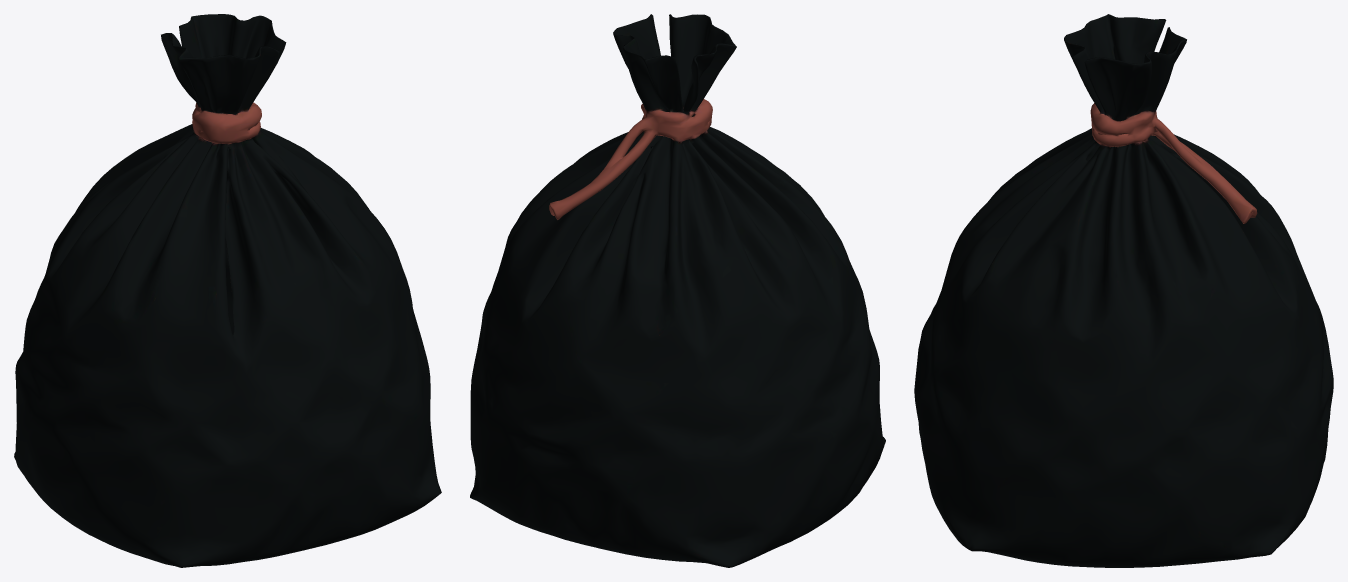
Rendered from trash-bag.glb.
3 views of the same model, side by side, from view 1: azimuth 30°, elevation 25°; view 2: azimuth 150°, elevation 25°; view 3: azimuth 270°, elevation 25° (orthographic). The views are drawn at different scales.
Visible parts, largest first — view 1: world; view 2: world; view 3: world.
Boxes of the visible parts, <box> form: world: <box>14,14,441,567</box>; world: <box>470,14,885,567</box>; world: <box>914,14,1333,567</box>.
Size of the model in its own units: 0.8207 by 1 by 0.8272.
1 material, 1 textured.
